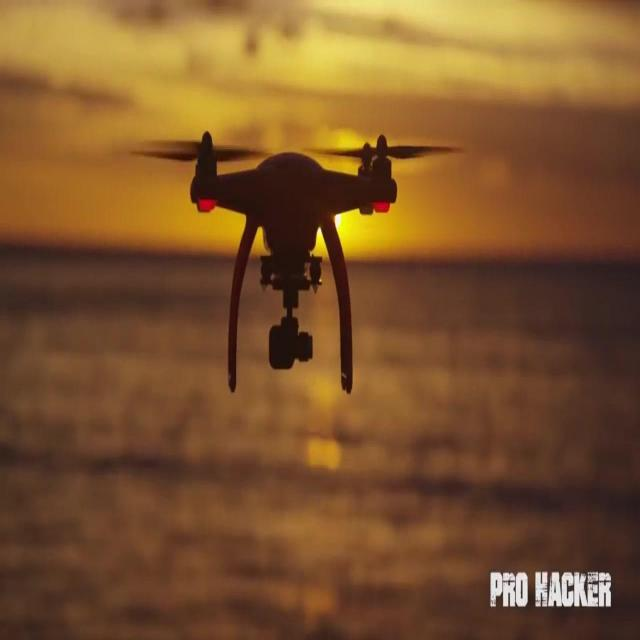UAV: (130, 130, 458, 394)
